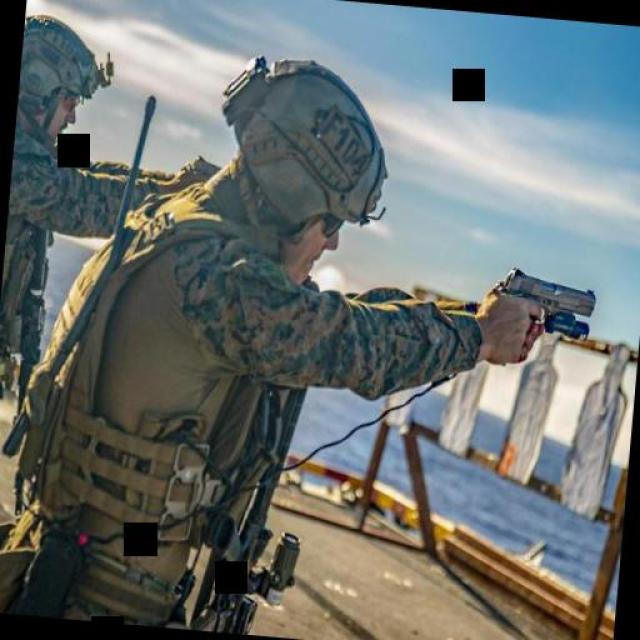gun: (496, 264, 602, 345)
